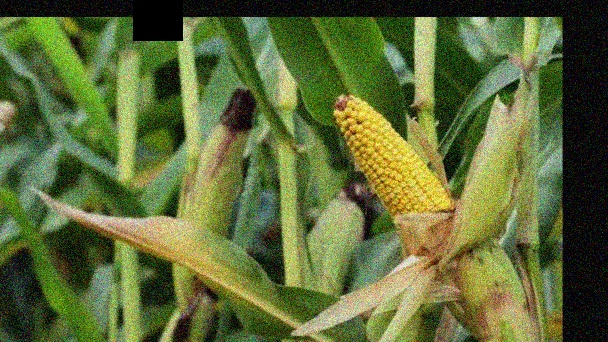corn: (327, 94, 470, 262)
corn_plant: (158, 79, 267, 304)
